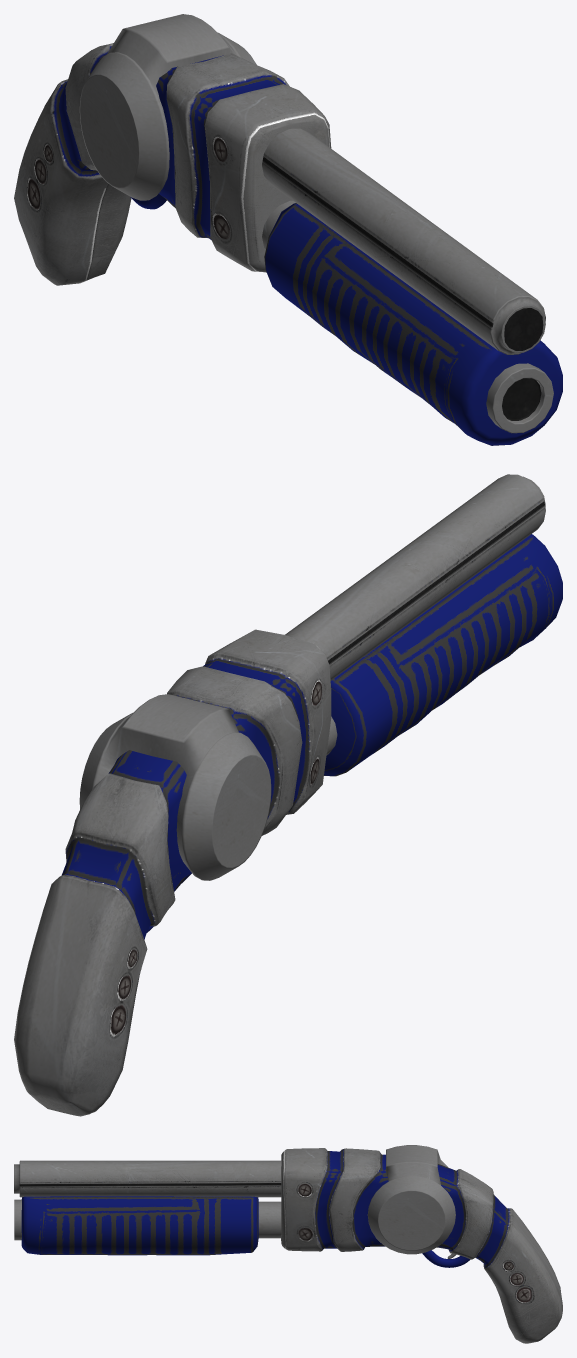
The model's file is Shotgun.fbx.
The picture shows the model from 3 angles, top to bottom: view 1: azimuth 30°, elevation 25°; view 2: azimuth 150°, elevation 25°; view 3: azimuth 270°, elevation 25°; orthographic projection. The views are drawn at different scales.
Visible parts, largest first — view 1: Shotgun; view 2: Shotgun; view 3: Shotgun.
Part boxes in pixels (x1=…): Shotgun: x1=14, y1=14, x2=562, y2=445; Shotgun: x1=14, y1=474, x2=562, y2=1116; Shotgun: x1=14, y1=1145, x2=562, y2=1343.
Bounding box in the file's own units: 6.95 × 16.33 × 43.78.
Materials: 1 (1 with a texture image).
